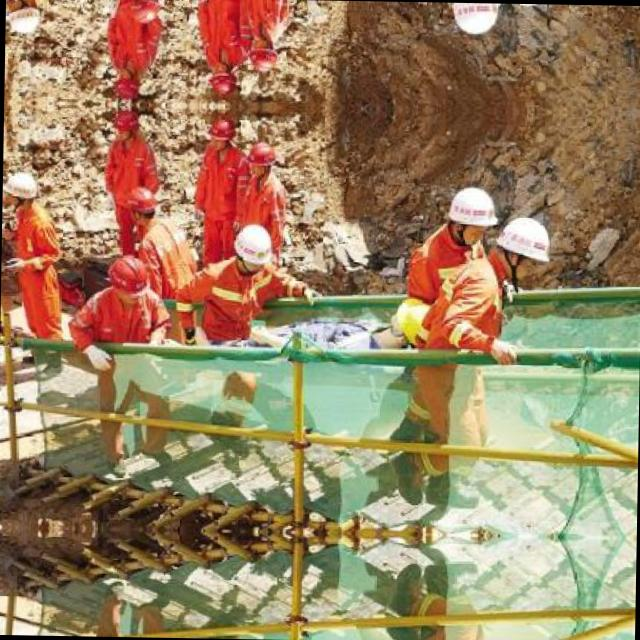helmet: (494, 210, 555, 280), (442, 182, 500, 245), (388, 294, 443, 342), (232, 219, 276, 271), (124, 174, 160, 235), (102, 251, 149, 296), (446, 2, 504, 37), (4, 165, 40, 210), (6, 0, 44, 38), (245, 137, 278, 178), (247, 32, 279, 74), (204, 114, 237, 150), (128, 0, 164, 32), (205, 59, 237, 95), (109, 106, 141, 139), (110, 66, 142, 99)
